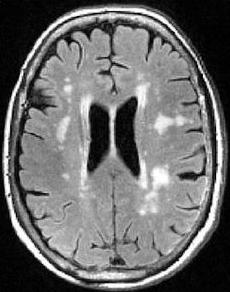Normal_Brain: (1, 1, 230, 292)
